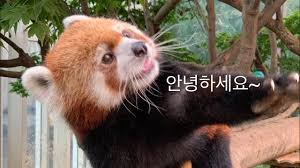redPanda: (29, 12, 225, 168)
